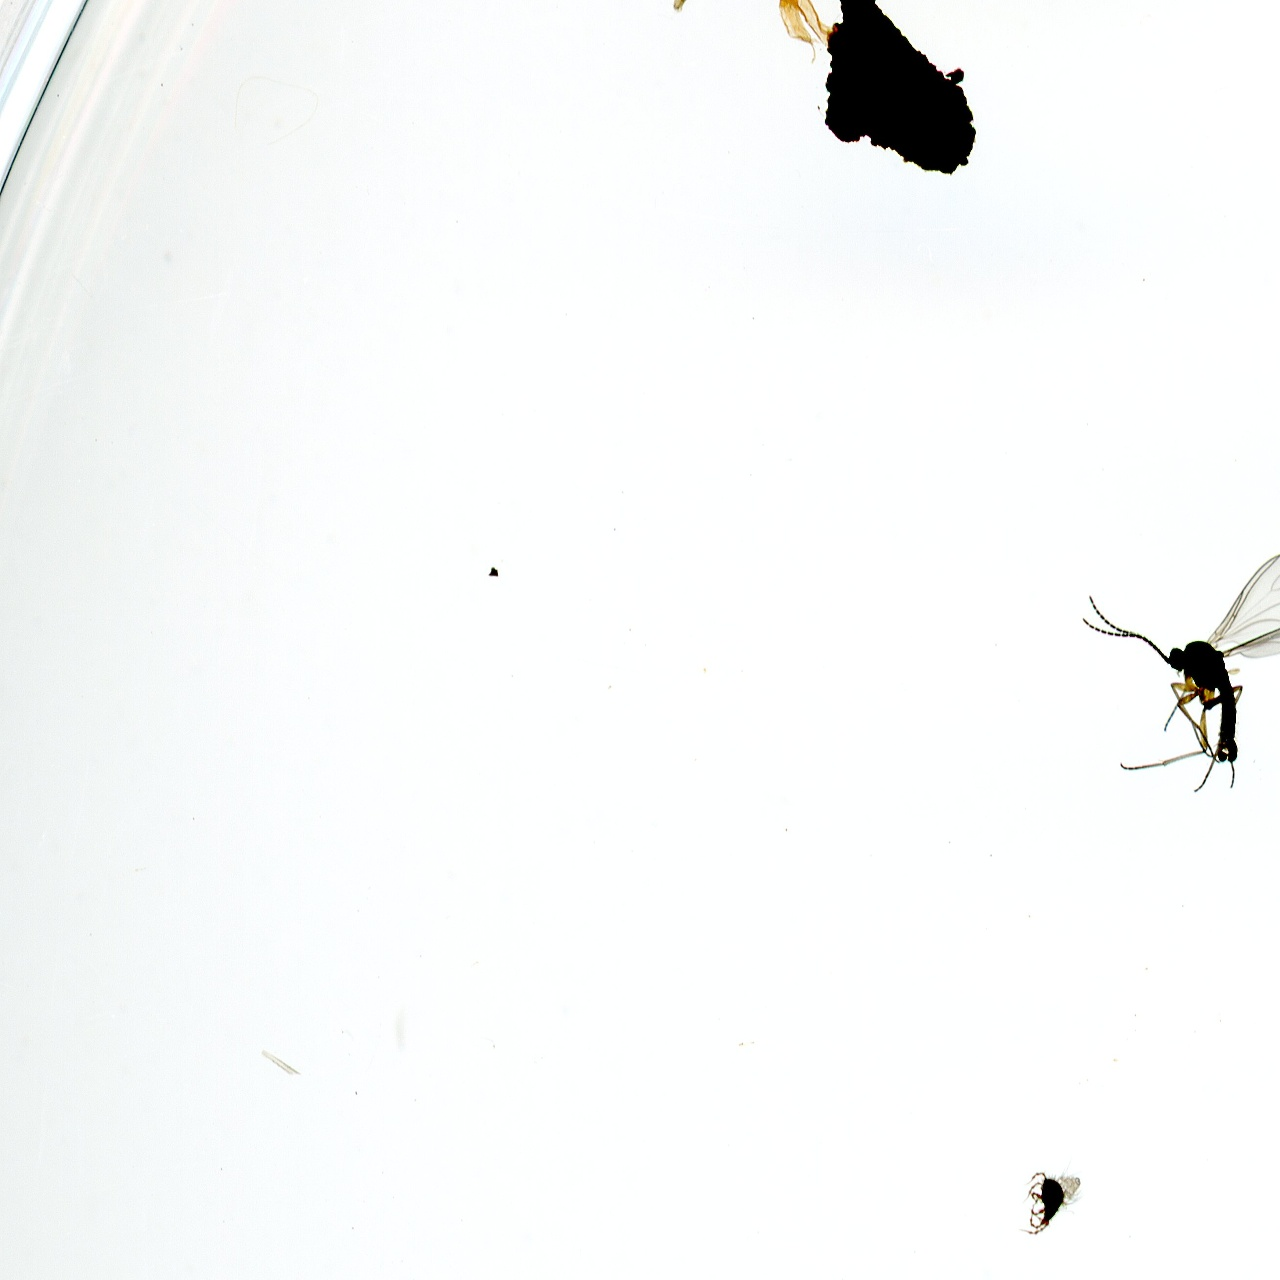arthropod: (1061, 513, 1280, 825), (1017, 1158, 1085, 1239)
